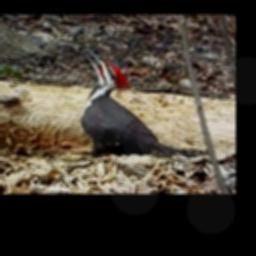Woodpecker: (79, 50, 196, 158)
